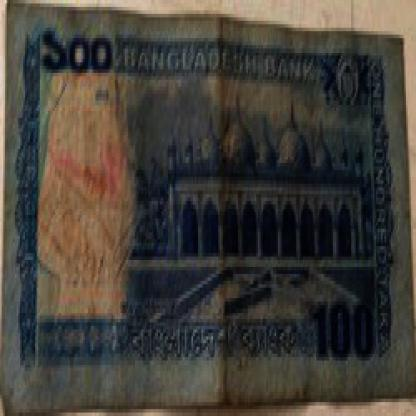one hundred taka: (310, 298, 378, 361), (43, 24, 113, 80)
